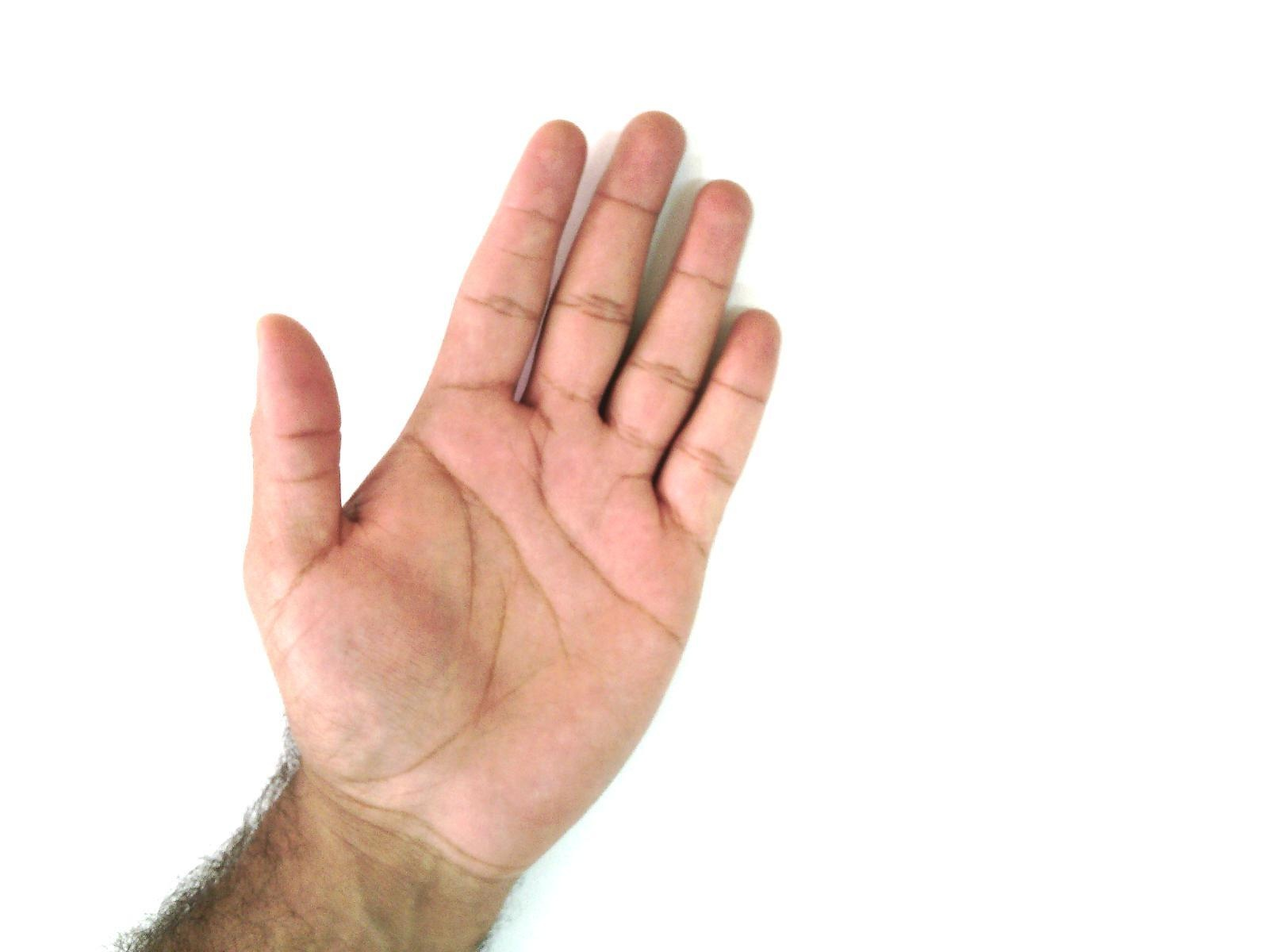open_palm: (240, 109, 785, 877)
